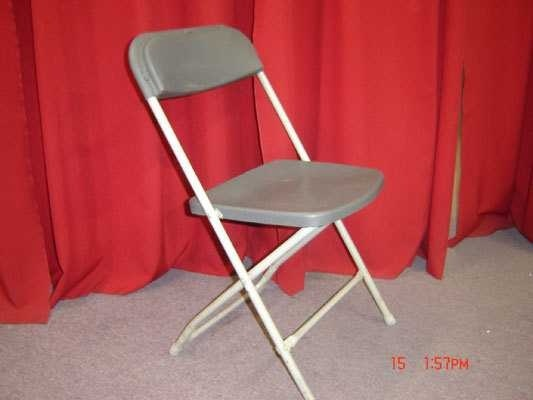obstacle: (129, 25, 395, 398)
